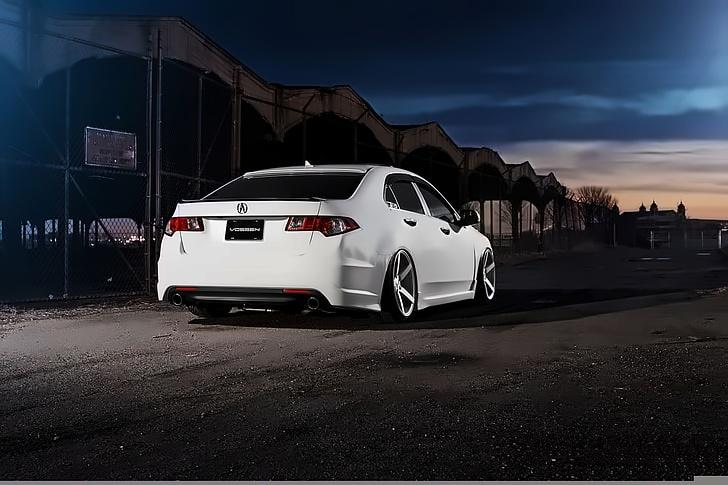Car boot: (174, 195, 321, 262)
Driver-s door - -F-R-: (409, 167, 477, 311)
Fender - -F-R-: (460, 222, 493, 300)
Fender - -R-R-: (331, 167, 410, 261)
Passenger-s door - -R-R-: (375, 166, 443, 317)
Rear bumper: (155, 252, 390, 322)
Rear light - -L-: (163, 216, 208, 237)
Rear light - -R-: (284, 214, 359, 237)
Side bumper - -R-: (413, 281, 480, 313)
Side mirror - -R-: (450, 205, 481, 234)
